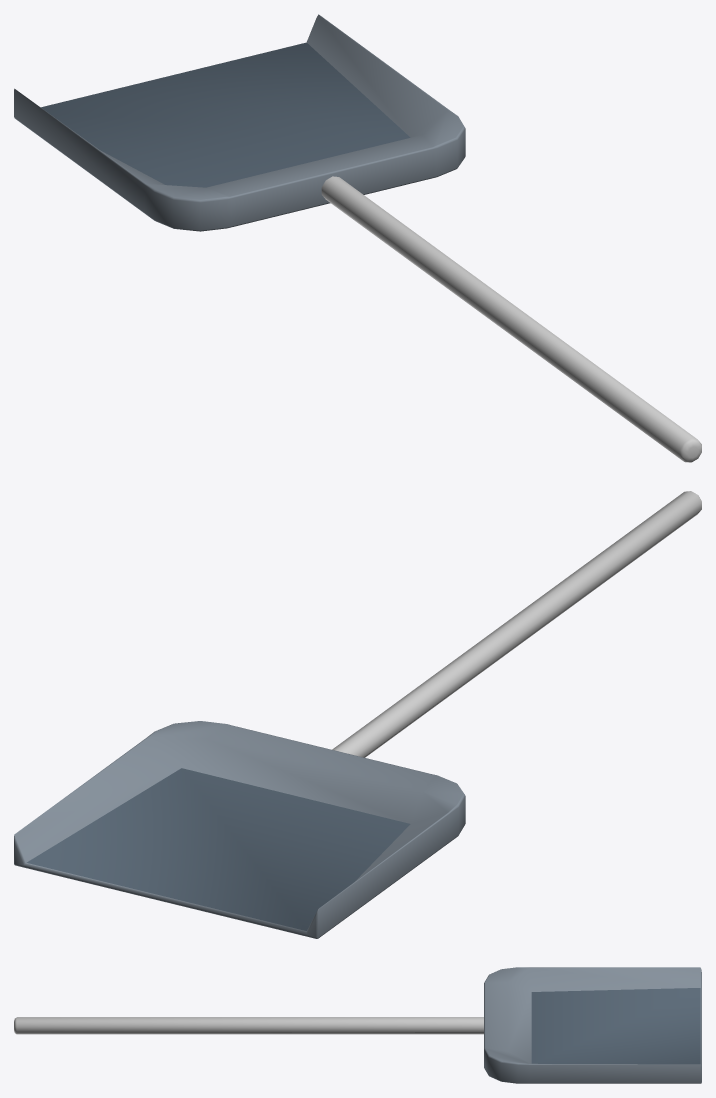
File: Pizza-shovel.fbx
The picture shows the model from 3 angles, top to bottom: view 1: azimuth 30°, elevation 25°; view 2: azimuth 150°, elevation 25°; view 3: azimuth 270°, elevation 25°; orthographic projection. The views are drawn at different scales.
Visible parts, largest first — view 1: Pizza-shovel; view 2: Pizza-shovel; view 3: Pizza-shovel.
Part boxes in pixels (x1=…): Pizza-shovel: x1=14, y1=14, x2=701, y2=462; Pizza-shovel: x1=14, y1=491, x2=701, y2=938; Pizza-shovel: x1=14, y1=967, x2=701, y2=1083.
Size of the model in its own units: 0.5 by 0.05 by 1.5.
